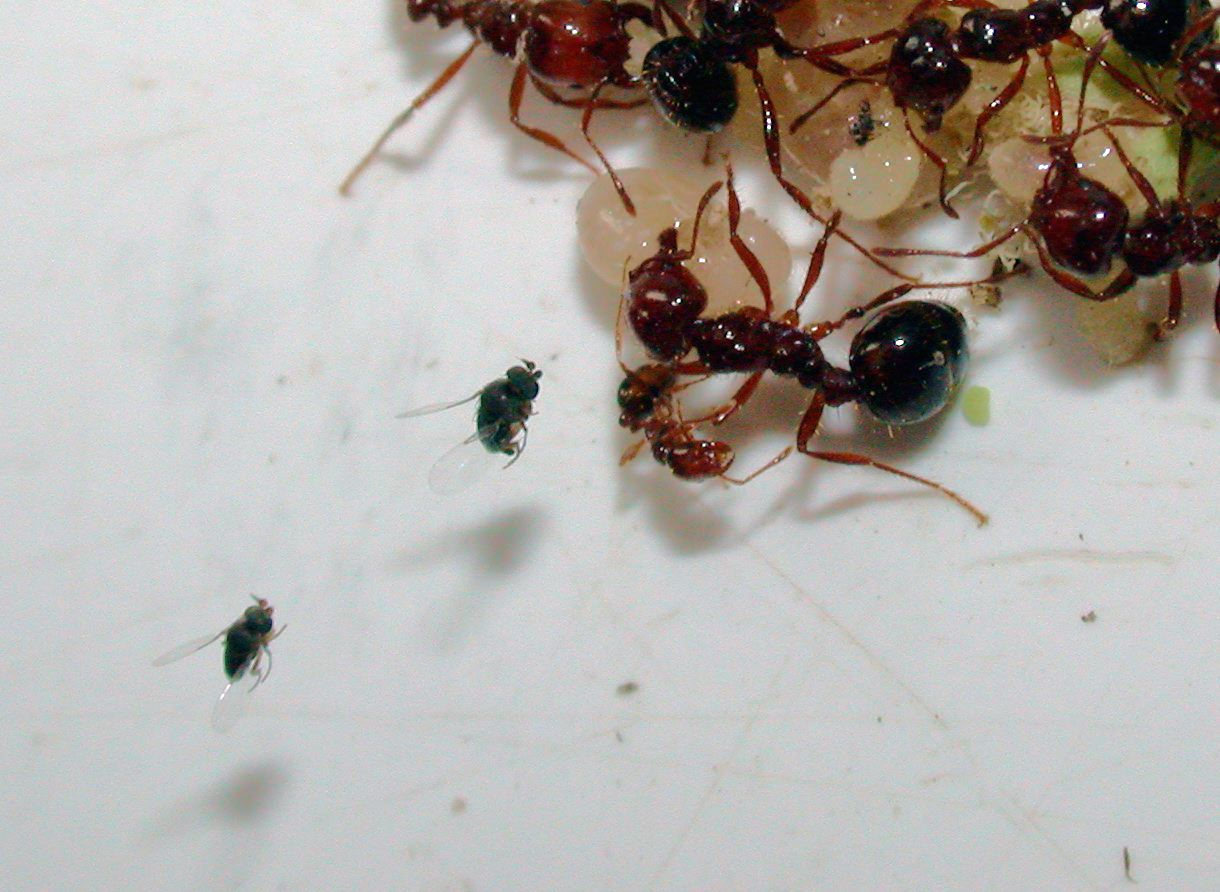phorid fly: (133, 566, 357, 767), (380, 335, 571, 515)
